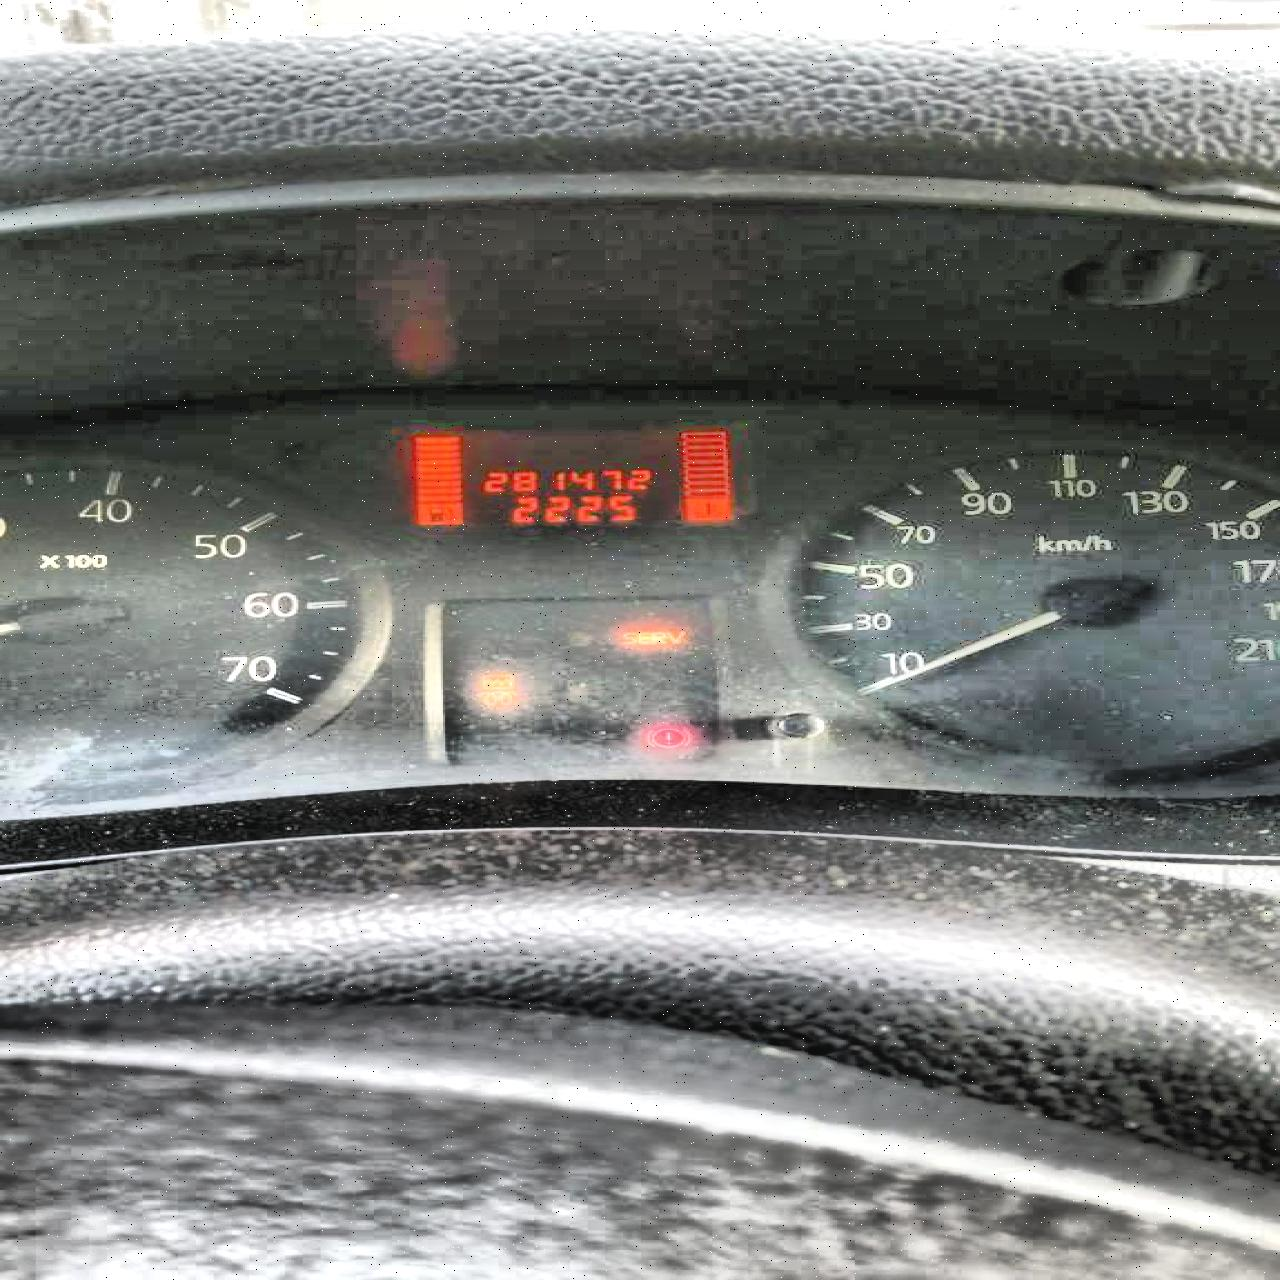1: (547, 470, 565, 489)
2: (572, 493, 601, 522), (542, 493, 570, 523), (510, 496, 536, 523), (624, 468, 649, 489), (481, 470, 505, 491)
4: (566, 470, 592, 490)
5: (606, 493, 634, 522)
7: (599, 468, 621, 489)
8: (510, 470, 535, 491)
odometer: (367, 418, 775, 546)
